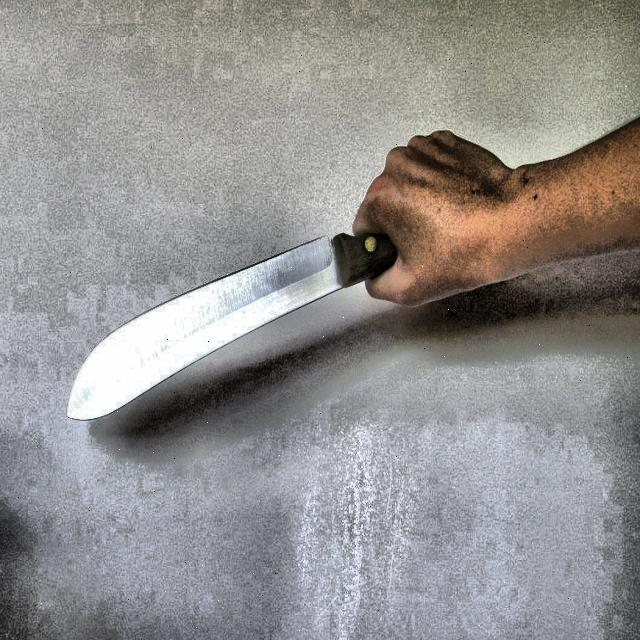knife: (68, 230, 396, 419)
